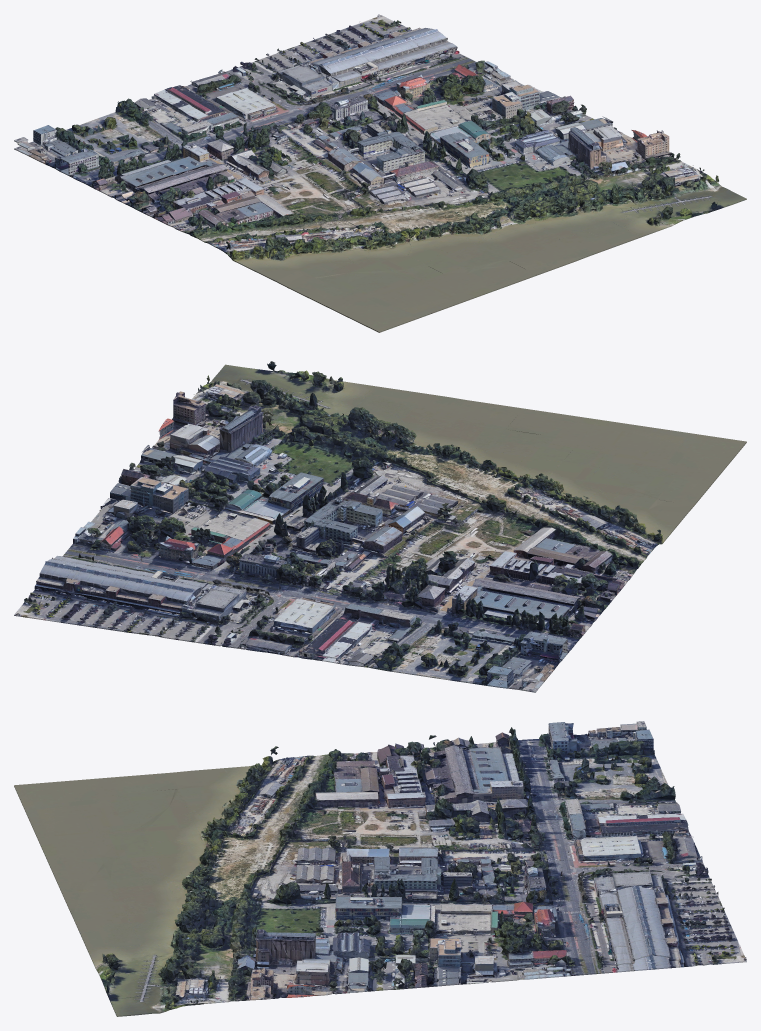
File: GoogleEarth.glb
The picture shows the model from 3 angles, top to bottom: view 1: azimuth 30°, elevation 25°; view 2: azimuth 150°, elevation 25°; view 3: azimuth 270°, elevation 25°; orthographic projection. The views are drawn at different scales.
Visible parts, largest first — view 1: BuildingMesh-00193.003, BuildingMesh-00177.003, BuildingMesh-00225.002, BuildingMesh-00255.002, BuildingMesh-00253.002, BuildingMesh-00237.002, BuildingMesh-00189.003, BuildingMesh-00263.002, BuildingMesh-00239.002, BuildingMesh-00223.002, BuildingMesh-00117.003, BuildingMesh-00165.003 (+33 smaller); view 2: BuildingMesh-00119.003, BuildingMesh-00181.003, BuildingMesh-00137.003, BuildingMesh-00135.003, BuildingMesh-00201.002, BuildingMesh-00159.003, BuildingMesh-00219.002, BuildingMesh-00217.002, BuildingMesh-00251.002, BuildingMesh-00203.002, BuildingMesh-00175.003, BuildingMesh-00189.003 (+33 smaller); view 3: BuildingMesh-00143.003, BuildingMesh-00269.002, BuildingMesh-00263.002, BuildingMesh-00119.003, BuildingMesh-00117.003, BuildingMesh-00203.002, BuildingMesh-00191.003, BuildingMesh-00205.002, BuildingMesh-00163.003, BuildingMesh-00217.002, BuildingMesh-00195.003, BuildingMesh-00147.003 (+33 smaller).
Boxes of the visible parts, x1=… form: BuildingMesh-00193.003: x1=196, y1=213, x2=309, y2=272; BuildingMesh-00177.003: x1=354, y1=152, x2=466, y2=209; BuildingMesh-00225.002: x1=310, y1=228, x2=422, y2=282; BuildingMesh-00255.002: x1=581, y1=180, x2=694, y2=236; BuildingMesh-00253.002: x1=529, y1=196, x2=641, y2=256; BuildingMesh-00237.002: x1=415, y1=191, x2=527, y2=244; BuildingMesh-00189.003: x1=135, y1=184, x2=248, y2=237; BuildingMesh-00263.002: x1=634, y1=163, x2=746, y2=216; BuildingMesh-00239.002: x1=363, y1=210, x2=475, y2=263; BuildingMesh-00223.002: x1=75, y1=157, x2=187, y2=209; BuildingMesh-00117.003: x1=390, y1=34, x2=502, y2=86; BuildingMesh-00165.003: x1=466, y1=117, x2=569, y2=171; BuildingMesh-00119.003: x1=14, y1=559, x2=123, y2=626; BuildingMesh-00181.003: x1=308, y1=507, x2=417, y2=573; BuildingMesh-00137.003: x1=88, y1=572, x2=195, y2=637; BuildingMesh-00135.003: x1=163, y1=586, x2=272, y2=648; BuildingMesh-00201.002: x1=312, y1=607, x2=421, y2=670; BuildingMesh-00159.003: x1=234, y1=497, x2=340, y2=562; BuildingMesh-00219.002: x1=386, y1=620, x2=495, y2=681; BuildingMesh-00217.002: x1=461, y1=634, x2=570, y2=692; BuildingMesh-00251.002: x1=304, y1=415, x2=410, y2=476; BuildingMesh-00203.002: x1=237, y1=602, x2=346, y2=659; BuildingMesh-00175.003: x1=418, y1=488, x2=526, y2=542; BuildingMesh-00189.003: x1=534, y1=546, x2=641, y2=607; BuildingMesh-00143.003: x1=314, y1=941, x2=431, y2=995; BuildingMesh-00269.002: x1=207, y1=950, x2=326, y2=1002; BuildingMesh-00263.002: x1=102, y1=961, x2=221, y2=1016; BuildingMesh-00119.003: x1=627, y1=921, x2=746, y2=970; BuildingMesh-00117.003: x1=522, y1=925, x2=642, y2=978; BuildingMesh-00203.002: x1=583, y1=824, x2=702, y2=869; BuildingMesh-00191.003: x1=344, y1=771, x2=463, y2=821; BuildingMesh-00205.002: x1=464, y1=799, x2=582, y2=845; BuildingMesh-00163.003: x1=287, y1=872, x2=402, y2=927; BuildingMesh-00217.002: x1=539, y1=721, x2=658, y2=771; BuildingMesh-00195.003: x1=240, y1=781, x2=358, y2=828; BuildingMesh-00147.003: x1=418, y1=930, x2=536, y2=986.
Size of the model in its own units: 6492 by 417 by 7165.
Materials: 98 (98 with a texture image).
